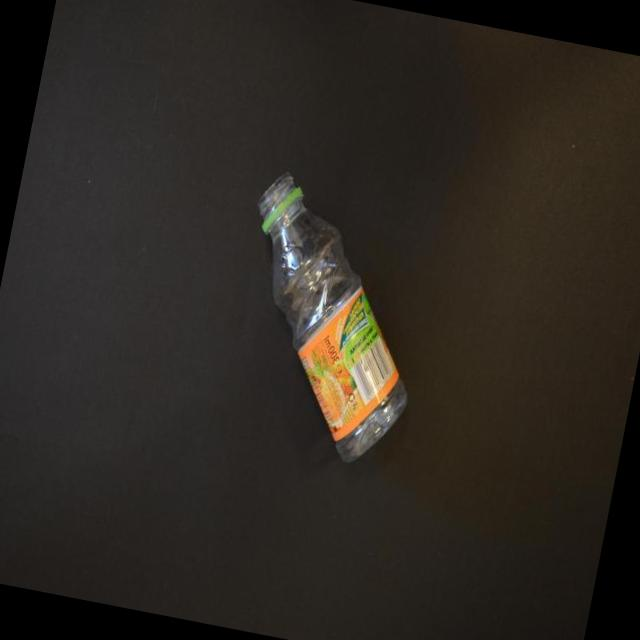plastic_bottle: (211, 166, 446, 472)
